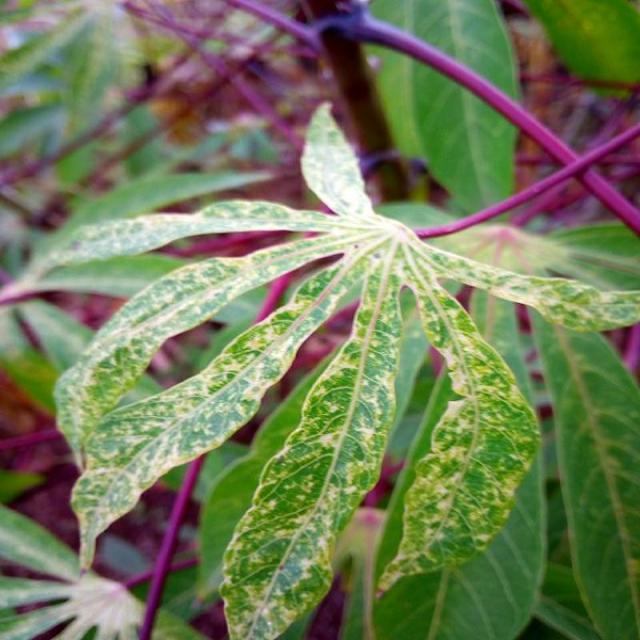cassava leaf: (50, 98, 638, 637)
